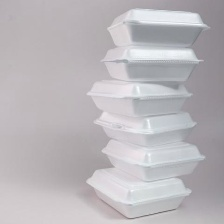foam_box: (82, 164, 194, 220), (96, 136, 209, 183), (102, 4, 214, 51), (82, 75, 196, 119), (90, 104, 200, 149), (94, 41, 207, 84)
